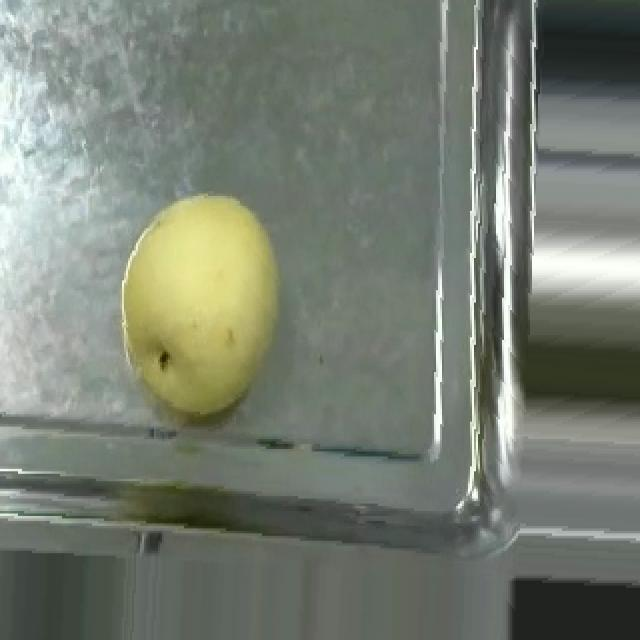Fruit: (108, 178, 290, 422)
